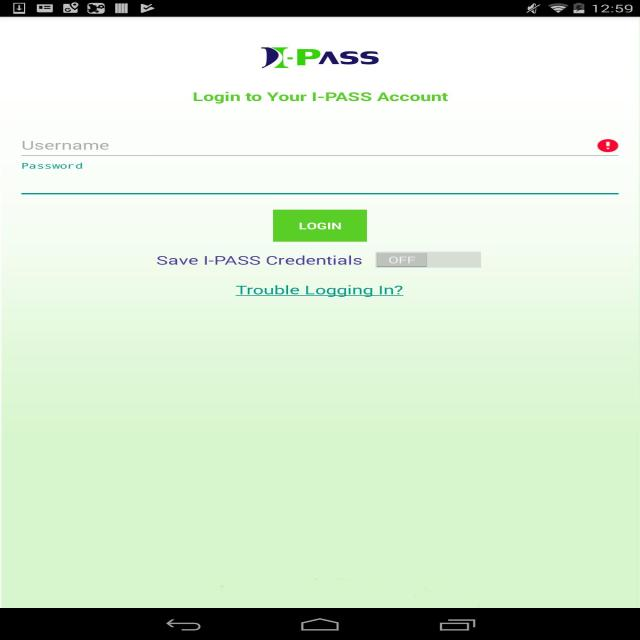button: (273, 210, 368, 242), (374, 249, 482, 270)
field: (18, 157, 624, 196), (18, 122, 623, 156)
heading: (188, 90, 456, 106)
image: (256, 44, 386, 73)
label: (152, 251, 366, 270), (20, 136, 112, 154), (20, 160, 88, 172)
link: (234, 282, 409, 298)
